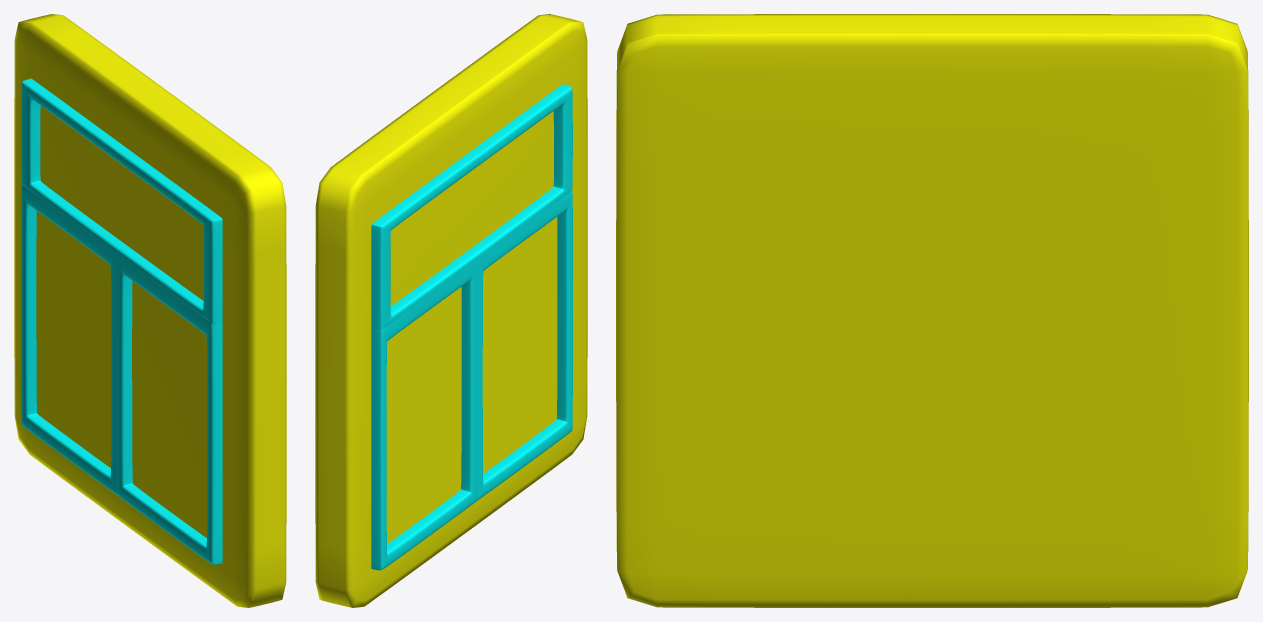
3 views of the same model, side by side, from view 1: azimuth 30°, elevation 25°; view 2: azimuth 150°, elevation 25°; view 3: azimuth 270°, elevation 25° (orthographic). The views are drawn at different scales.
Parts seen in each view (by area): view 1: polySurface933; view 2: polySurface933; view 3: polySurface933.
Part boxes in pixels (x1,y1,x2,y2): polySurface933: [14, 14, 286, 607]; polySurface933: [315, 14, 587, 607]; polySurface933: [616, 14, 1248, 607].
Size of the model in its own units: 0.1234 by 0.9994 by 0.9994.
